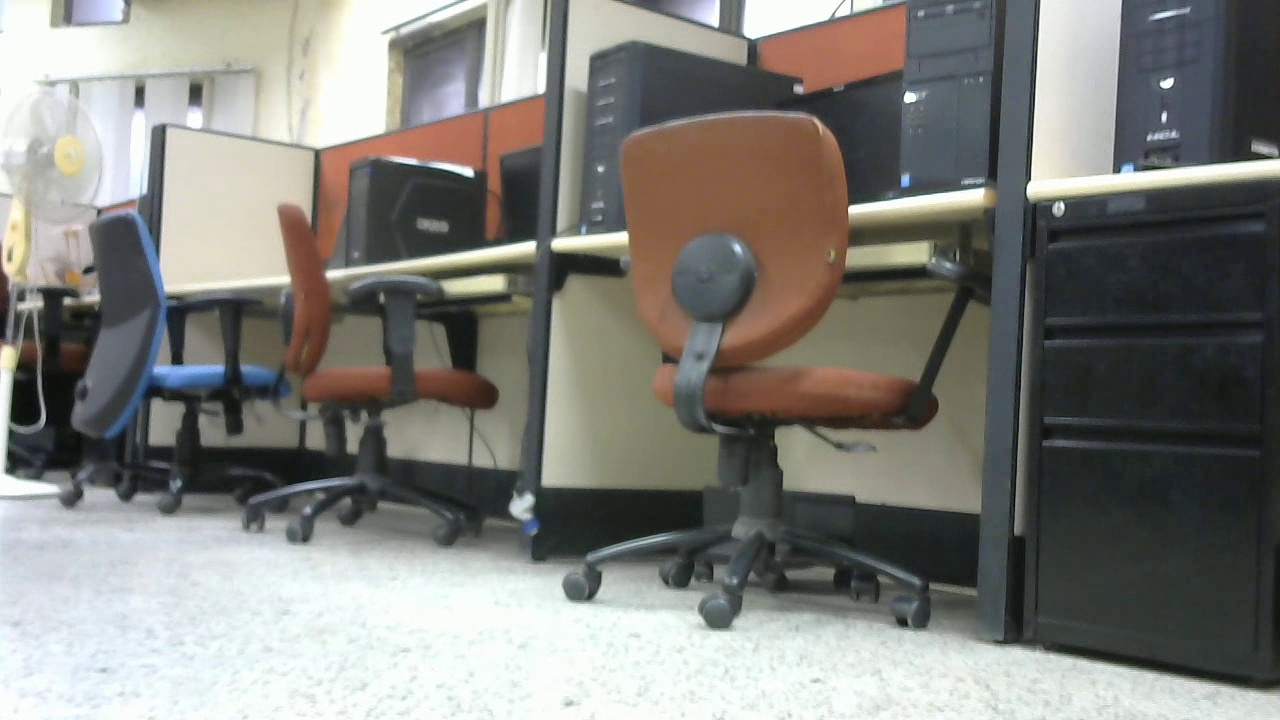chair: (562, 108, 987, 635), (243, 202, 501, 549), (54, 206, 286, 515), (1, 259, 89, 478)
